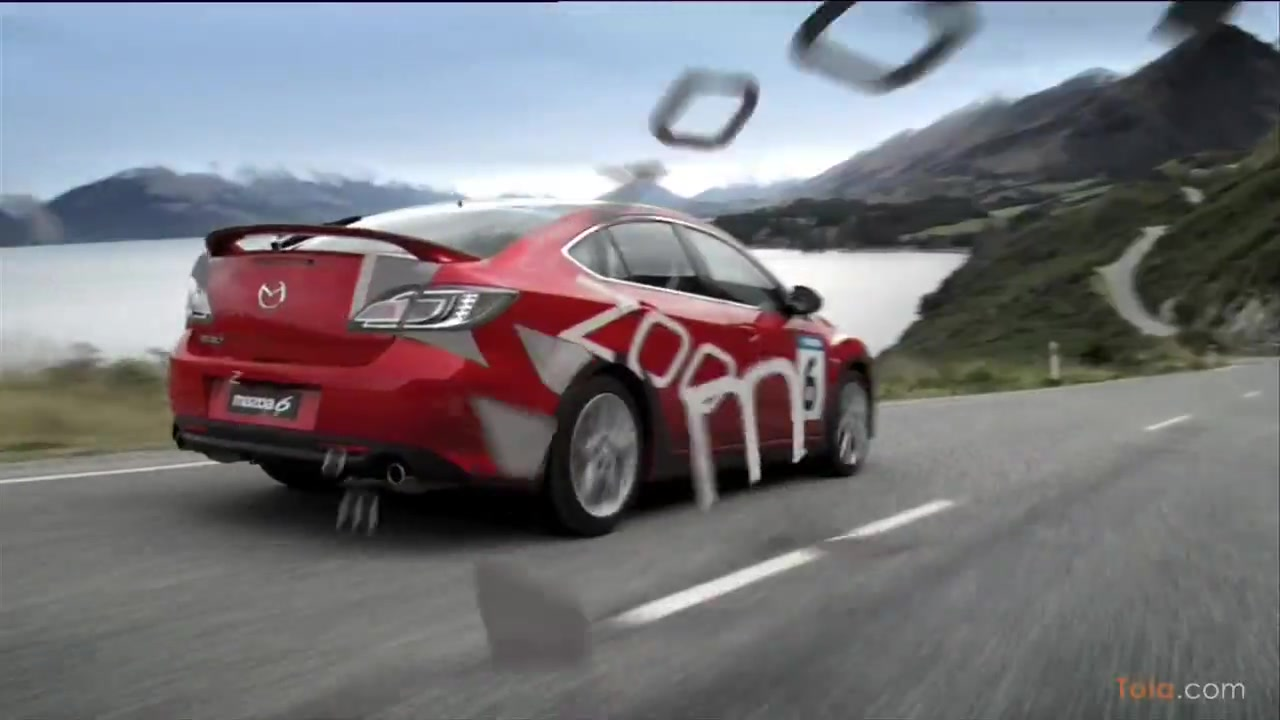car: (169, 198, 882, 529)
